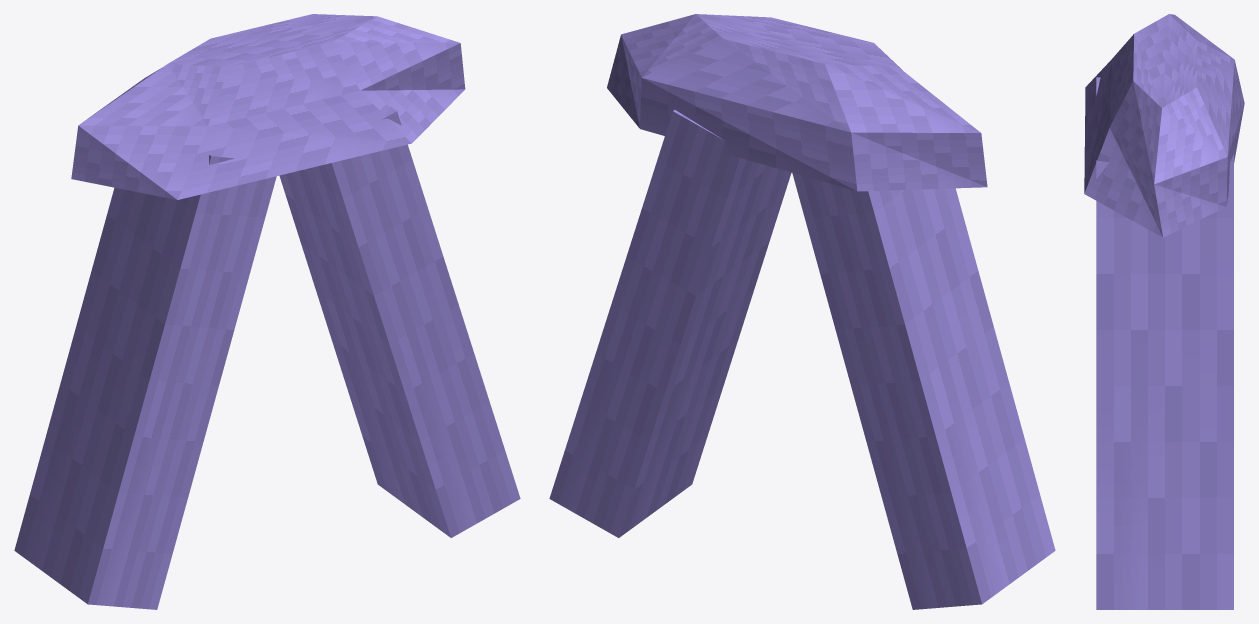
Rendered from cave-and-crystal-networks-crystal-arch-eb91b718.glb.
3 views of the same model, side by side, from view 1: azimuth 30°, elevation 25°; view 2: azimuth 150°, elevation 25°; view 3: azimuth 270°, elevation 25° (orthographic). The views are drawn at different scales.
Visible parts, largest first — view 1: crystal-arch; view 2: crystal-arch; view 3: crystal-arch.
Part boxes in pixels (x1,y1,x2,y2): crystal-arch: (14, 14, 520, 609); crystal-arch: (549, 14, 1055, 609); crystal-arch: (1084, 14, 1244, 609).
Bounding box in the file's own units: 2.38 × 2.66 × 0.8163.
1 material, 1 textured.
